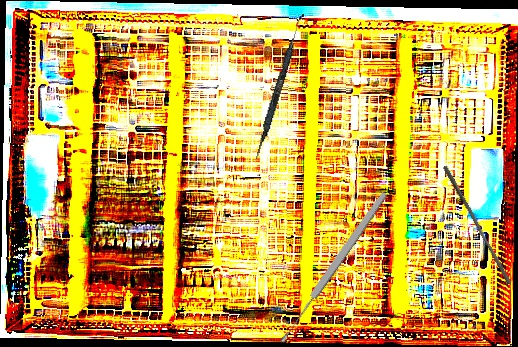Pusher: (438, 164, 516, 286)
Spatula Surgical: (253, 12, 305, 161)
Surgical Spoon: (276, 189, 390, 346)
